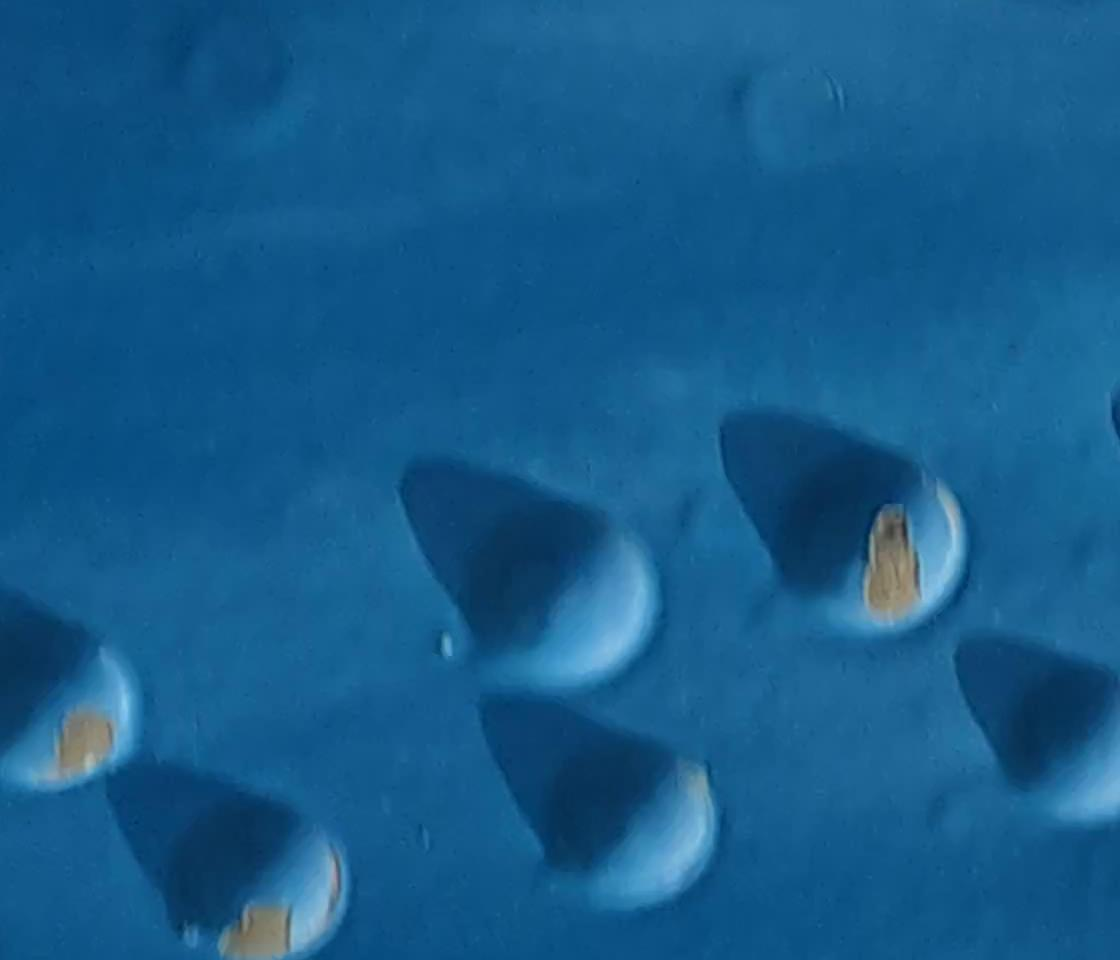paint_peel: (852, 490, 930, 630), (45, 708, 124, 784), (208, 902, 295, 958)
